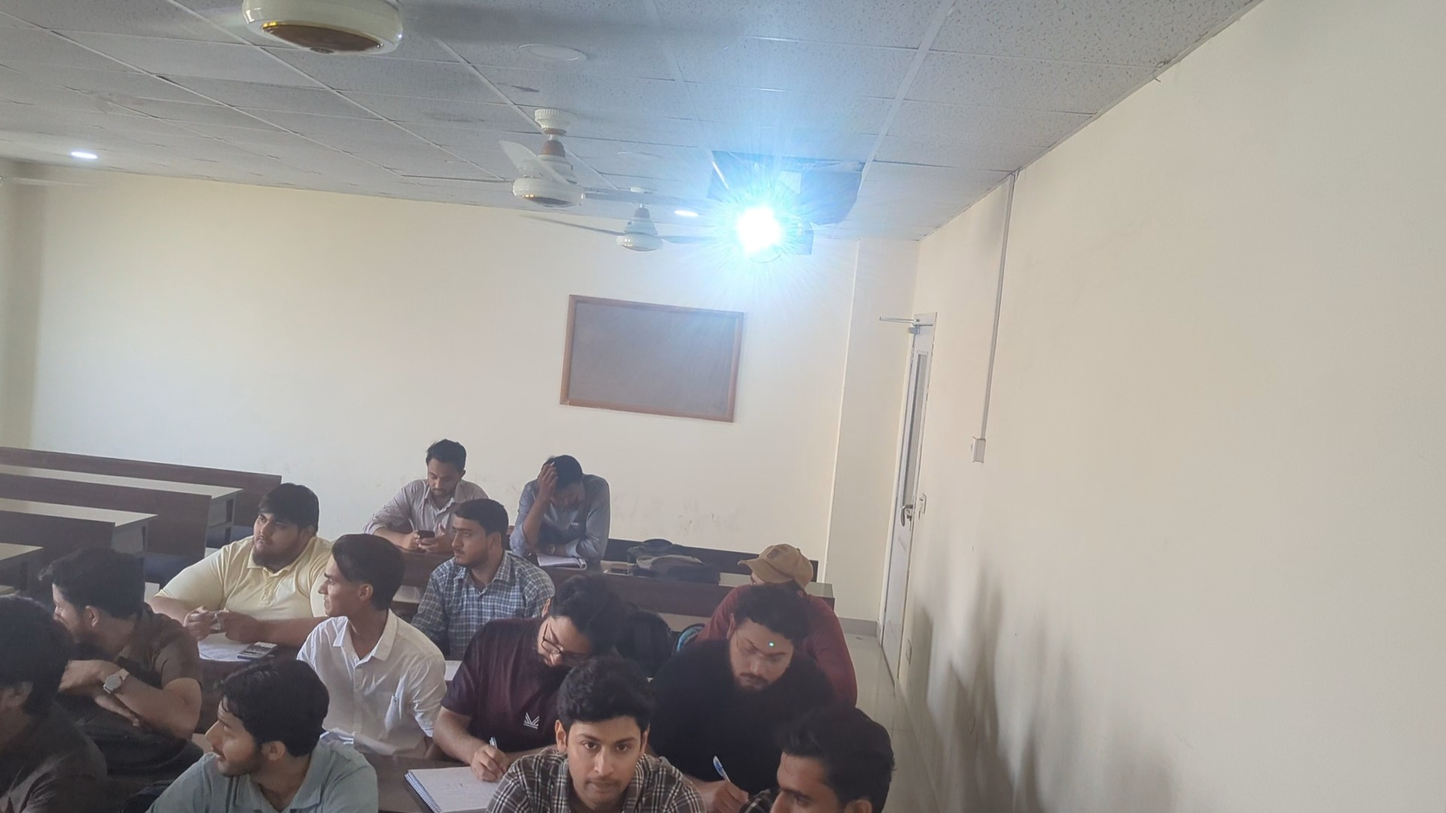look_forward: (491, 659, 693, 813), (147, 479, 321, 646), (427, 498, 541, 611)
sleep: (507, 444, 625, 555)
turn_head: (155, 653, 377, 813), (38, 541, 215, 739), (287, 525, 425, 670)
using_device: (375, 439, 488, 554)
write: (435, 569, 600, 790), (658, 589, 817, 804)
